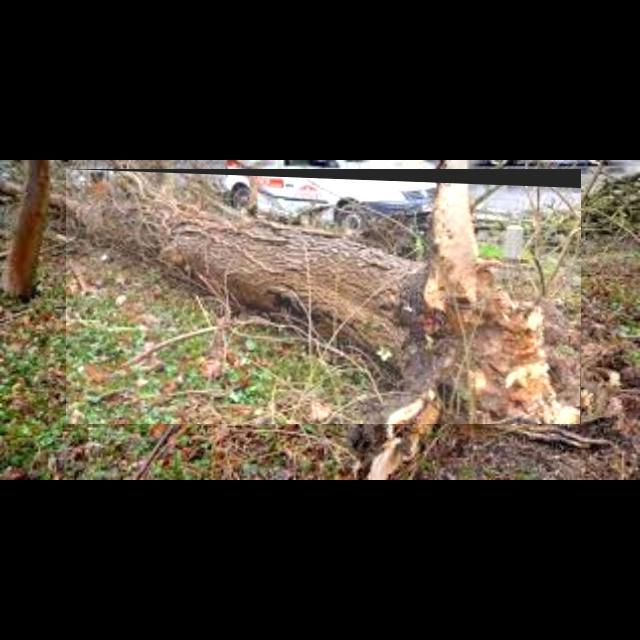fallen_tree: (66, 169, 582, 425)
